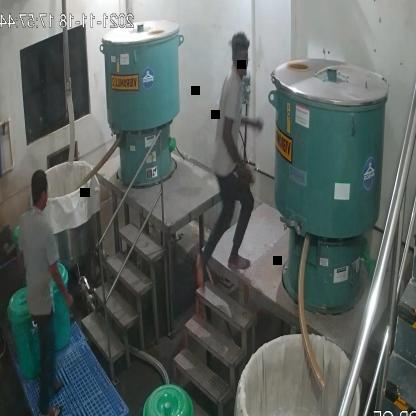no_shoes: (227, 248, 254, 273), (194, 252, 208, 300), (40, 402, 61, 416)
